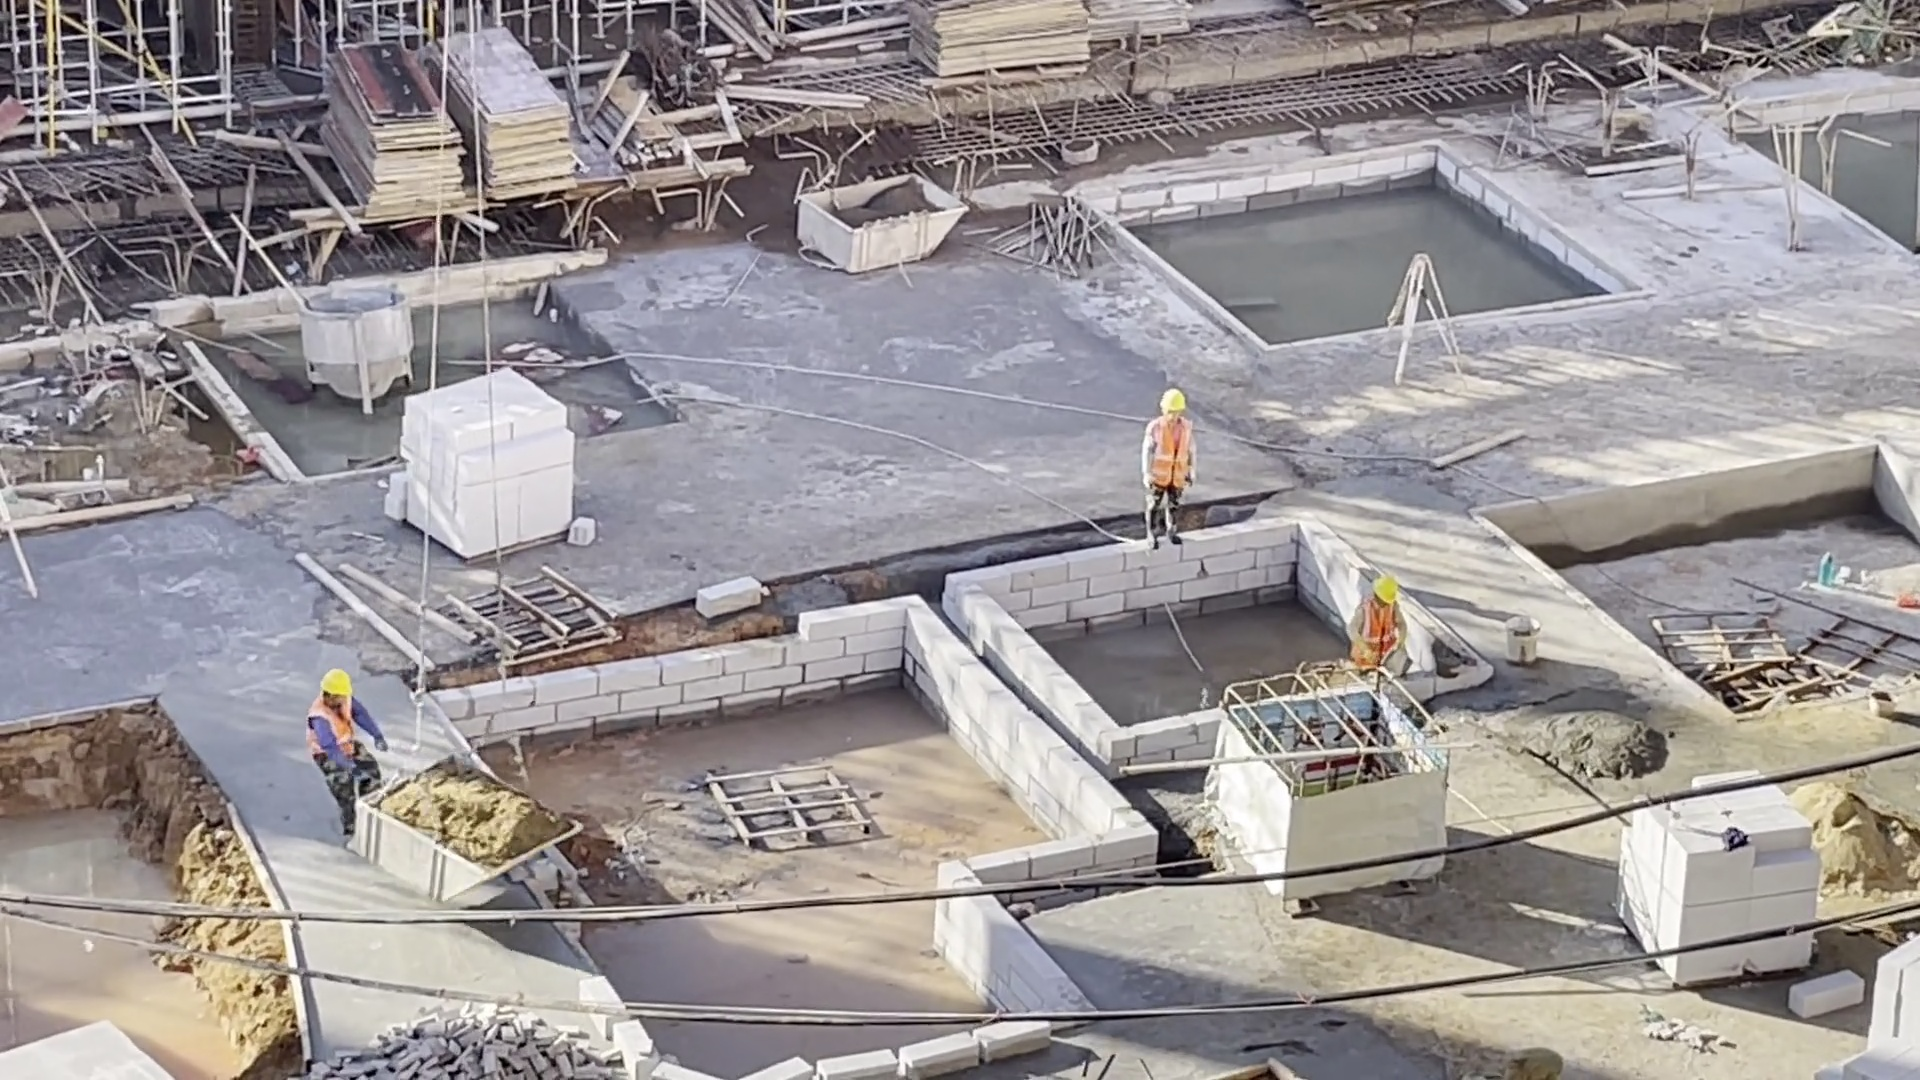board: (425, 20, 591, 205), (311, 39, 464, 219), (897, 5, 1092, 87)
brick: (384, 358, 576, 557), (1606, 815, 1823, 926), (1802, 931, 1917, 1080), (6, 1019, 178, 1080)
helmet: (320, 665, 355, 699), (1156, 390, 1191, 415), (1373, 575, 1401, 605)
hopper: (344, 754, 589, 895), (797, 175, 973, 280), (302, 290, 415, 412)
person: (299, 661, 393, 794), (1143, 387, 1200, 549), (1341, 572, 1408, 671)
vest: (1146, 416, 1194, 492), (1351, 597, 1401, 671), (304, 694, 361, 754)
